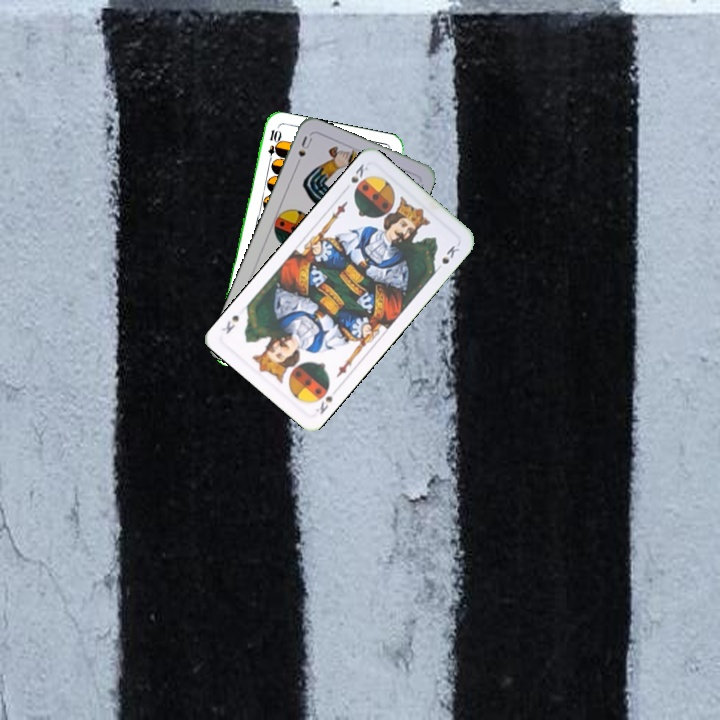E10: (264, 126, 281, 166)
SK: (347, 160, 371, 196), (309, 392, 335, 417)
SU: (291, 132, 315, 170)
